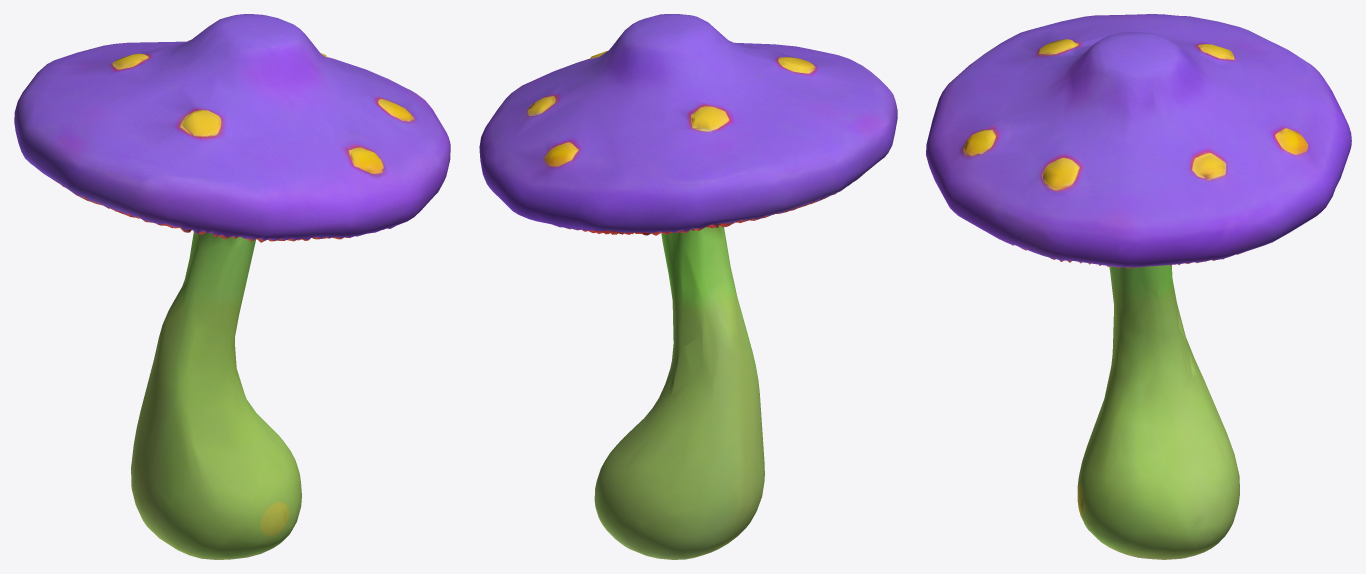
File: mushroom_tall.glb
3 renders of one model, left to right at view 1: azimuth 30°, elevation 25°; view 2: azimuth 150°, elevation 25°; view 3: azimuth 270°, elevation 25°, orthographic. The views are drawn at different scales.
Size of the model in its own units: 1.51 by 2 by 1.51.
Materials: 1 (1 with a texture image).
